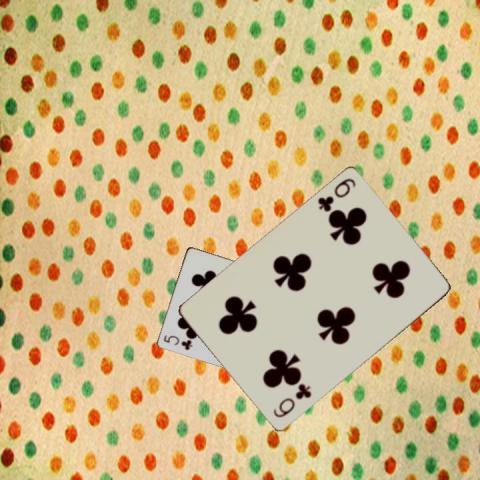5c: (160, 332, 194, 351)
6c: (270, 381, 313, 420), (314, 175, 357, 214)
